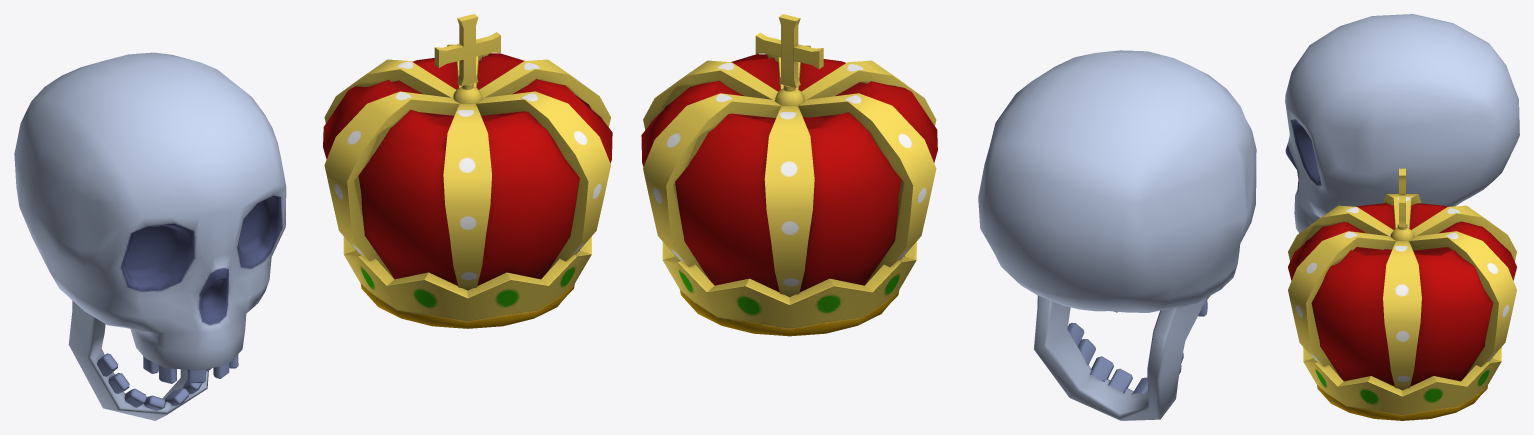
File: vuong_mieng.fbx
The picture shows the model from 3 angles, left to right: view 1: azimuth 30°, elevation 25°; view 2: azimuth 150°, elevation 25°; view 3: azimuth 270°, elevation 25°; orthographic projection. The views are drawn at different scales.
Visible parts, largest first — view 1: vuong_mieng, tren, duoi; view 2: vuong_mieng, tren, duoi; view 3: vuong_mieng, tren.
Boxes of the visible parts, x1,y1,x2,y2 form: vuong_mieng: (323, 14, 612, 328); tren: (14, 52, 286, 383); duoi: (68, 300, 211, 420); vuong_mieng: (641, 14, 937, 336); tren: (978, 50, 1256, 316); duoi: (1033, 295, 1206, 420); vuong_mieng: (1288, 168, 1516, 420); tren: (1285, 14, 1519, 232).
Bounding box in the file's own units: 4.33 × 2.56 × 1.96.
Materials: 1 (1 with a texture image).
